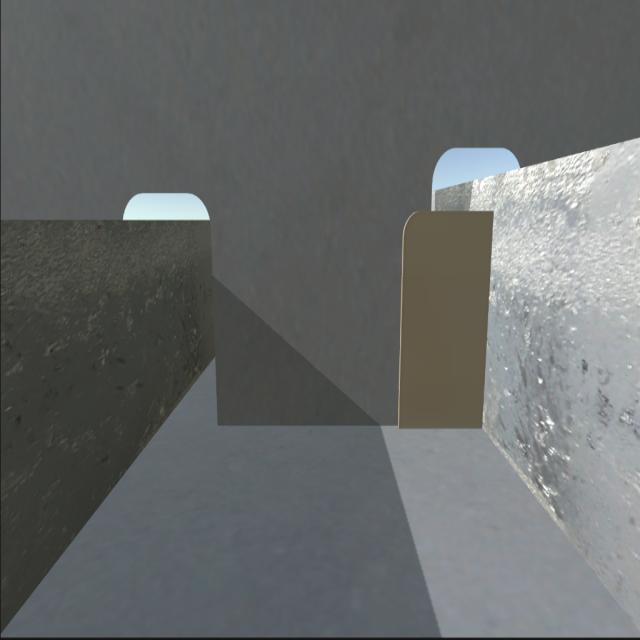fillet_yong_jeop_jang: (216, 413, 484, 438)
longi_yong_jeop_jang: (479, 208, 492, 435)
plate_CP05: (399, 209, 488, 434)
